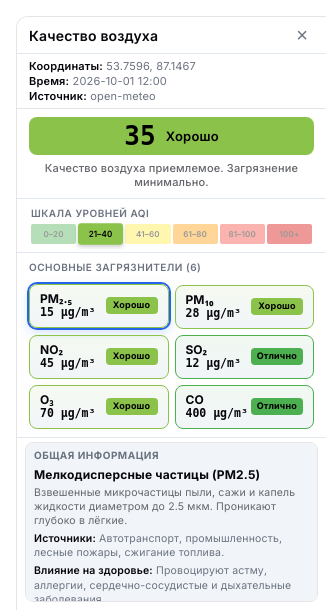
Test: RightAirPanel component (Список 6 загрязнителей и карточка) › 2. Переключает подробную информацию о веществе в блоке "Общ инф" по клику
expect the text "Мелкодисперсные частицы (PM2.5)" is shown: met, box [34, 467, 260, 482]
Step 1. Click the button "NO₂ 45 μg/m³ Хорошо" → click(99, 357), box [29, 335, 168, 379]
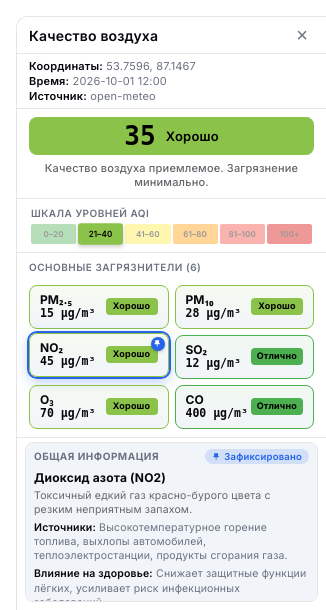
expect the text "Диоксид азота (NO2)" is shown: met, box [34, 470, 166, 485]
expect the text "Токсичный едкий газ красно-бурого цвета" is shown: met, box [34, 489, 271, 516]
expect the text "Высокотемпературное горение топлива" is shown: met, box [34, 521, 288, 563]
